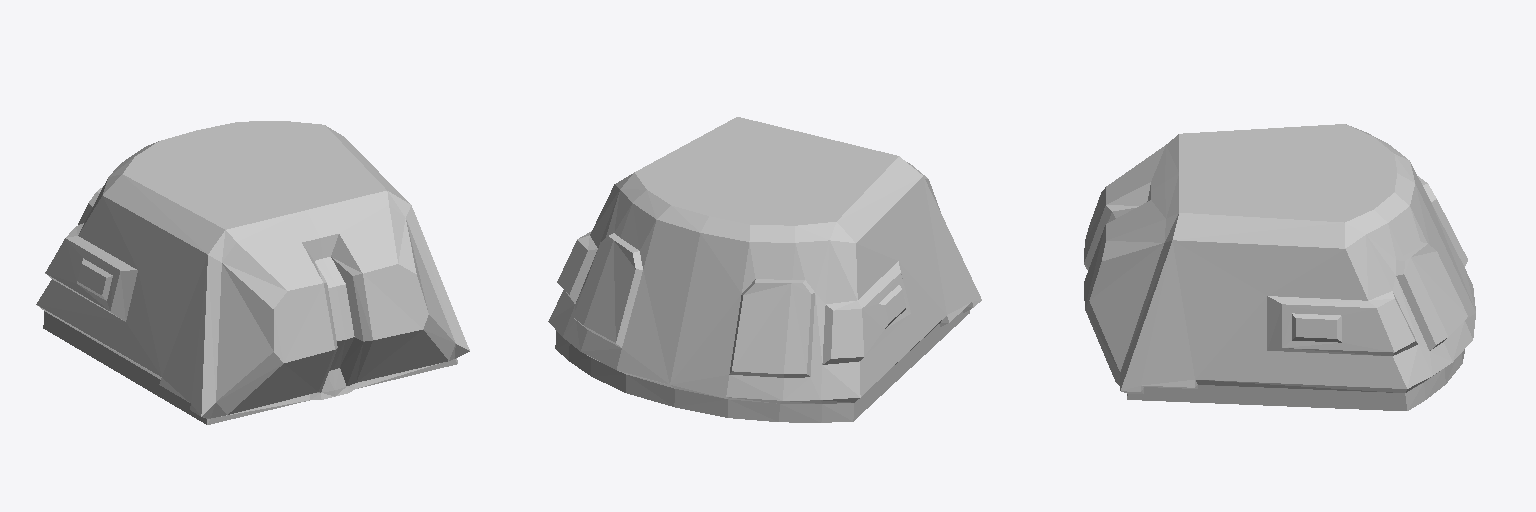
Rendered from gun5-0.obj.
The picture shows the model from 3 angles: view 1: azimuth 30°, elevation 25°; view 2: azimuth 150°, elevation 25°; view 3: azimuth 270°, elevation 25°; orthographic projection.
Parts seen in each view (by area): view 1: Tai_HeavyCruiserGun; view 2: Tai_HeavyCruiserGun; view 3: Tai_HeavyCruiserGun.
Boxes of the visible parts, x1=… form: Tai_HeavyCruiserGun: x1=36, y1=121, x2=469, y2=424; Tai_HeavyCruiserGun: x1=548, y1=117, x2=981, y2=422; Tai_HeavyCruiserGun: x1=1084, y1=124, x2=1475, y2=410.
Bounding box in the file's own units: 39.37 × 19.94 × 42.83.